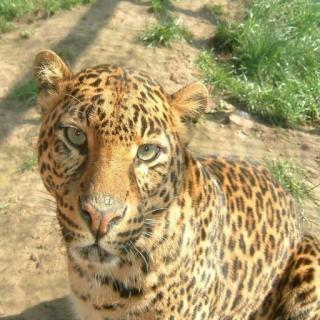Leopard: (4, 56, 320, 320)
